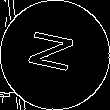N_E: (26, 30, 84, 80)
